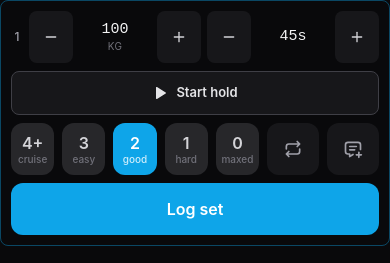
SetLoggerRow hold timer (duration exercises) › disables the seconds steppers and Log set while the hold is running
This screenshot has width=390, height=263.
Click the button with aria-label "Start hold timer" at (195, 93), box [11, 71, 379, 115]
Wait 5000 ms
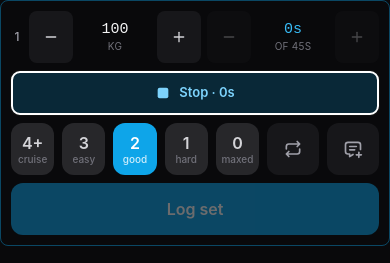
Expected: the button named "Decrease seconds" is disabled, [207, 11, 251, 63]
Expected: the button named "Increase seconds" is disabled, [335, 11, 379, 63]
Expected: the button "Log set" is disabled, [11, 183, 379, 235]
Click the button with aria-label "Stop hold timer" at (195, 93), box [11, 71, 379, 115]
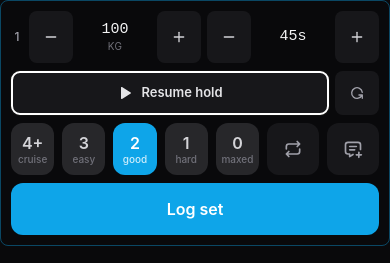
Expected: the button named "Decrease seconds" is enabled, [207, 11, 251, 63]
Expected: the button "Log set" is enabled, [11, 183, 379, 235]
